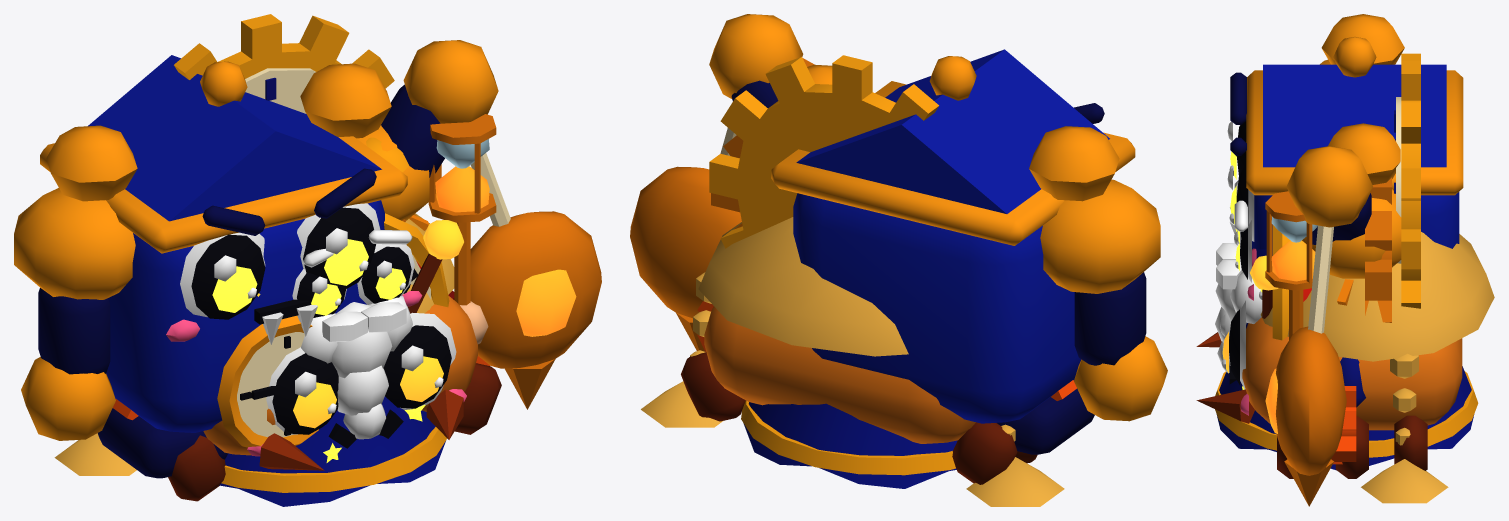
The model's file is time_warp_creatures.fbx.
3 renders of one model, left to right at view 1: azimuth 30°, elevation 25°; view 2: azimuth 150°, elevation 25°; view 3: azimuth 270°, elevation 25°, orthographic. The views are drawn at different scales.
Visible parts, largest first — view 1: Pendulum_Brute, Father_Time, Sand_Crawler, Tick_Tock; view 2: Pendulum_Brute, Sand_Crawler, Father_Time; view 3: Pendulum_Brute, Sand_Crawler, Father_Time, Gear_Golem, Tick_Tock.
Part boxes in pixels (box(x1,y1,x2,y2)): Pendulum_Brute: box(14, 40, 601, 478); Father_Time: box(174, 14, 496, 506); Sand_Crawler: box(54, 164, 501, 501); Tick_Tock: box(366, 137, 454, 307); Pendulum_Brute: box(630, 14, 1167, 454); Sand_Crawler: box(641, 135, 1064, 506); Father_Time: box(709, 55, 957, 488); Pendulum_Brute: box(1227, 14, 1463, 506); Sand_Crawler: box(1196, 177, 1494, 503); Father_Time: box(1215, 53, 1478, 470); Gear_Golem: box(1331, 357, 1365, 464); Tick_Tock: box(1259, 225, 1311, 340).
Size of the model in its own units: 3.82 by 2.6 by 2.01.
